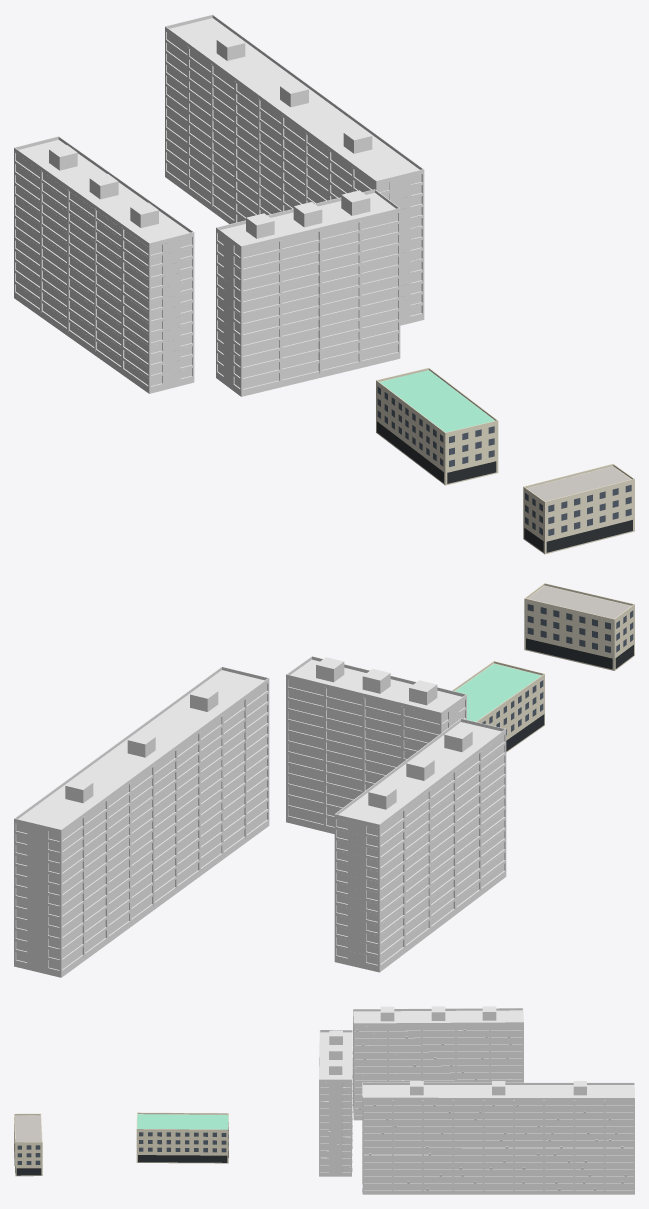
3 views of the same model, one above another, from view 1: azimuth 30°, elevation 25°; view 2: azimuth 150°, elevation 25°; view 3: azimuth 270°, elevation 25° (orthographic). The views are drawn at different scales.
Visible parts, largest first — view 1: a3_w; view 2: a3_w; view 3: a3_w.
Part boxes in pixels (x1=…): a3_w: x1=14, y1=14, x2=634, y2=554; a3_w: x1=14, y1=583, x2=634, y2=977; a3_w: x1=14, y1=1006, x2=634, y2=1194.
Size of the model in its own units: 75.47 by 40.35 by 220.
